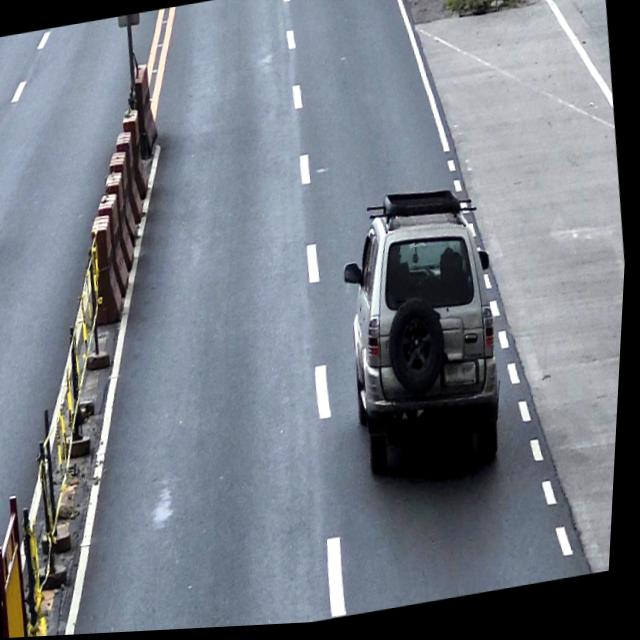Car: (328, 179, 522, 490)
License-Plate: (445, 360, 485, 396)
